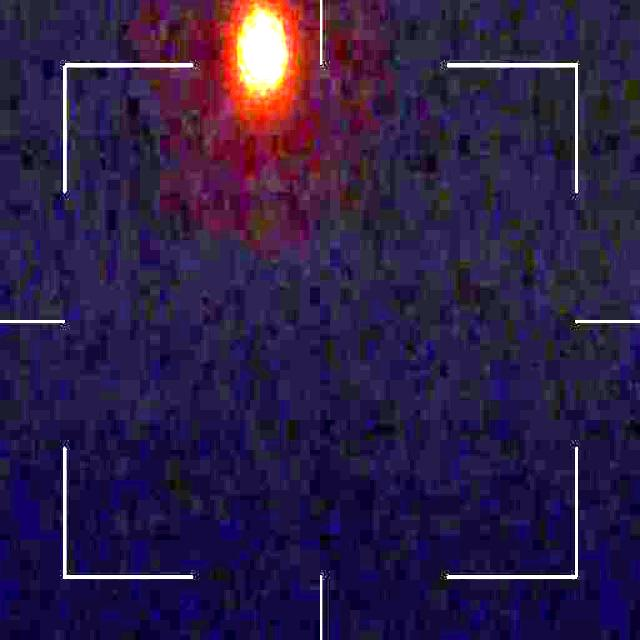bird: (236, 8, 289, 90)
